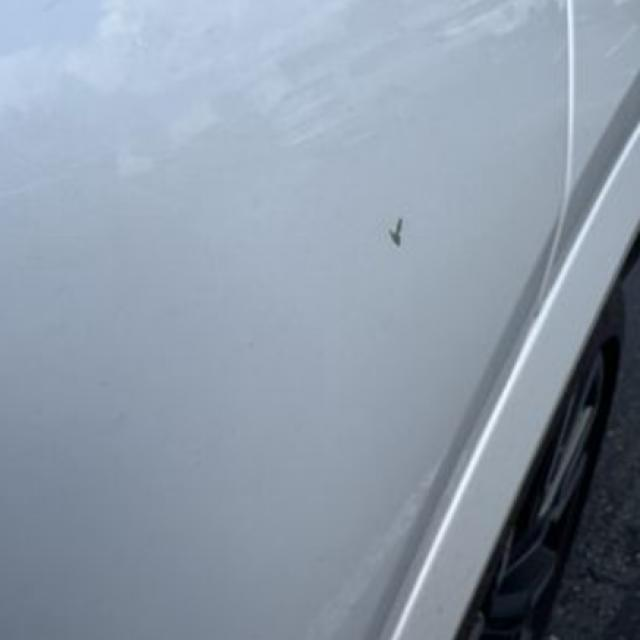dents: (373, 194, 445, 309)
